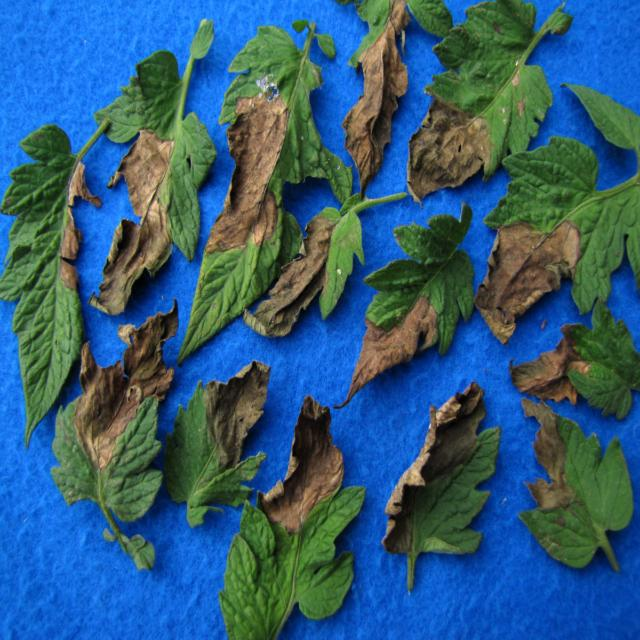Late_blight: (379, 382, 492, 550), (71, 303, 181, 468), (88, 126, 181, 318), (470, 209, 585, 344), (205, 90, 288, 258), (340, 1, 408, 198), (333, 292, 441, 409), (260, 390, 344, 534), (242, 216, 338, 340), (406, 87, 490, 203), (199, 360, 274, 475), (502, 322, 592, 407), (515, 399, 581, 514), (54, 156, 100, 292)
